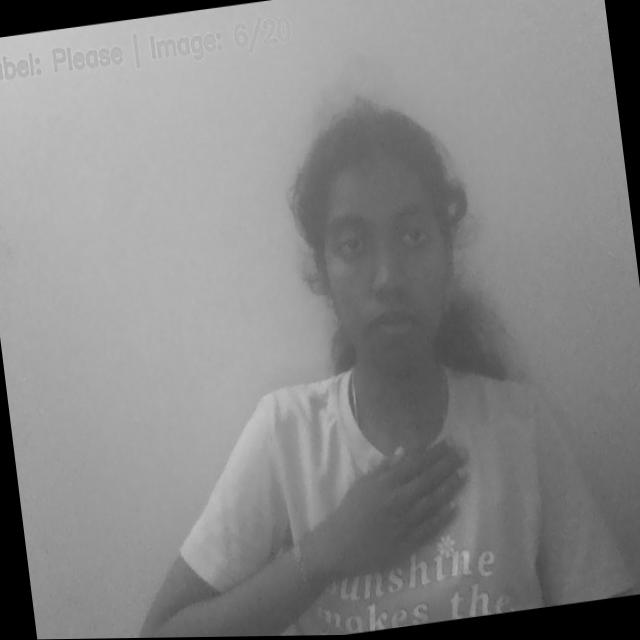Please: (316, 425, 484, 593)
